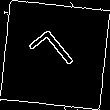L_SE: (27, 26, 83, 84)
